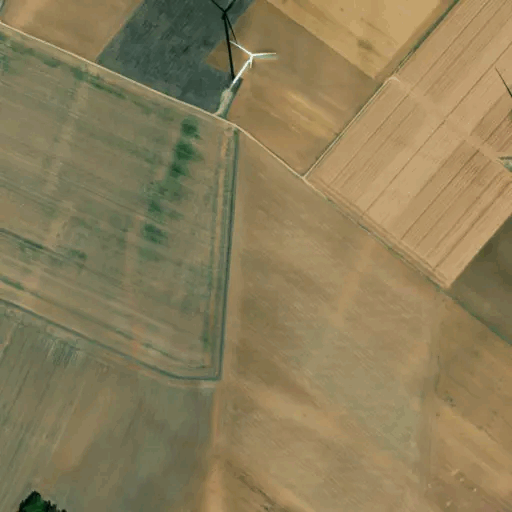wt: (204, 1, 279, 96)
